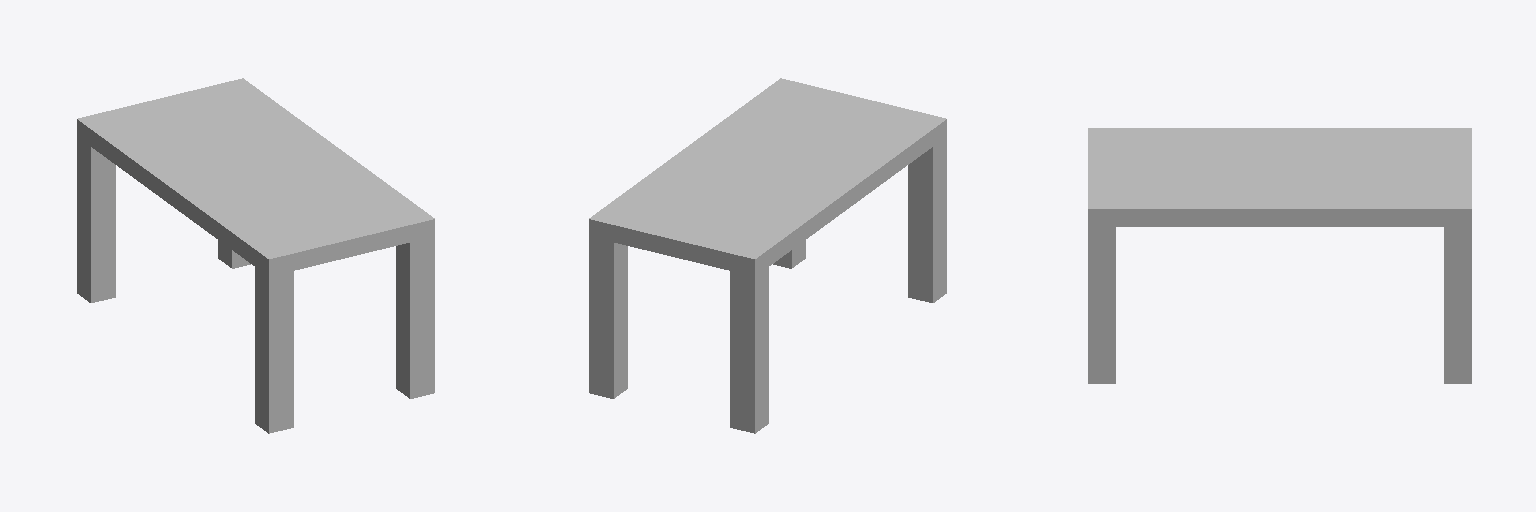
Rendered from bench_t02.obj.
3 views of the same model, side by side, from view 1: azimuth 30°, elevation 25°; view 2: azimuth 150°, elevation 25°; view 3: azimuth 270°, elevation 25° (orthographic).
Parts seen in each view (by area): view 1: Cube; view 2: Cube; view 3: Cube.
Boxes of the visible parts, box(x1,y1,x2,y2) form: Cube: box(77, 78, 434, 433); Cube: box(589, 78, 946, 433); Cube: box(1088, 128, 1471, 383).
Bounding box in the file's own units: 2 × 2 × 4.